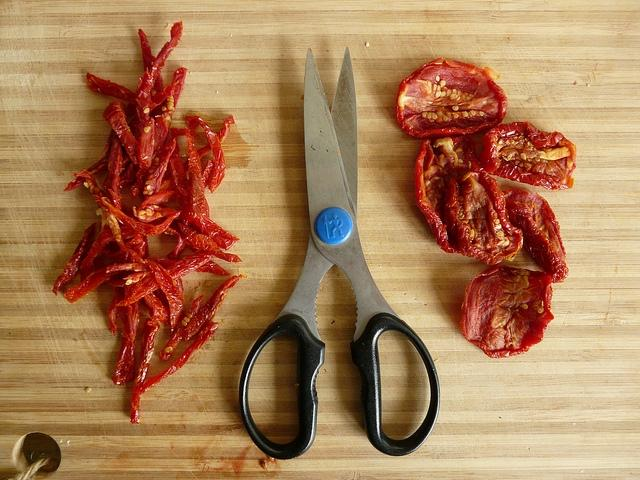hot pepper: (459, 264, 555, 358), (396, 58, 507, 139), (414, 136, 482, 253), (444, 171, 524, 265), (183, 126, 240, 250), (479, 121, 576, 191), (502, 189, 568, 284), (158, 115, 236, 193), (140, 322, 221, 396), (117, 250, 217, 307), (180, 274, 247, 342), (135, 21, 183, 114), (63, 252, 139, 303), (93, 195, 146, 263), (184, 115, 226, 195), (52, 222, 97, 296), (130, 319, 161, 425), (112, 280, 142, 386), (102, 197, 182, 236), (146, 258, 183, 334), (178, 222, 243, 264), (102, 102, 140, 170), (142, 138, 176, 200), (131, 118, 155, 201), (64, 154, 110, 192), (86, 73, 138, 106), (138, 28, 164, 92), (148, 257, 232, 276), (169, 142, 189, 218), (104, 132, 125, 196), (132, 190, 176, 218), (180, 294, 204, 329), (142, 292, 168, 324), (79, 238, 106, 268), (163, 226, 186, 260), (118, 306, 134, 343)
